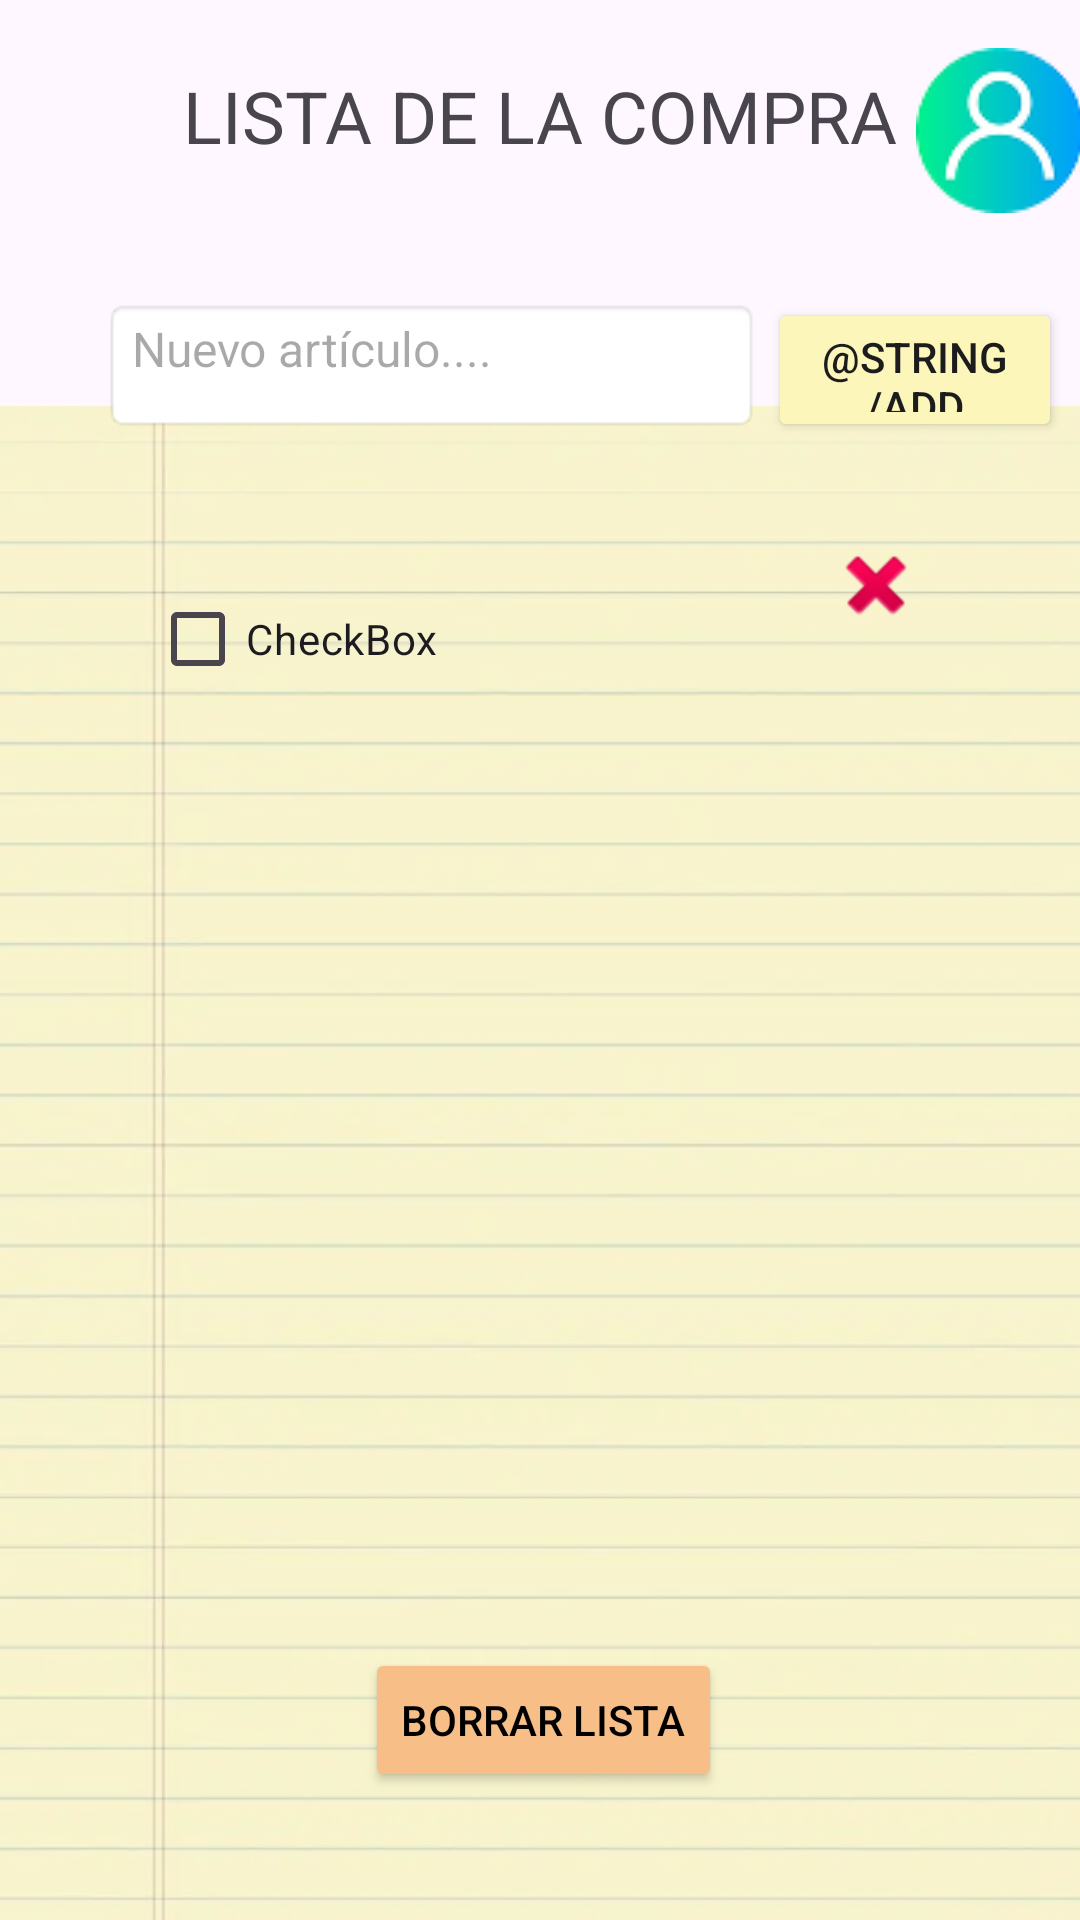

Icons on this 1080w x 1920h Android screen, each with the point to tap as [x,y]:
usuario: [998,130]
